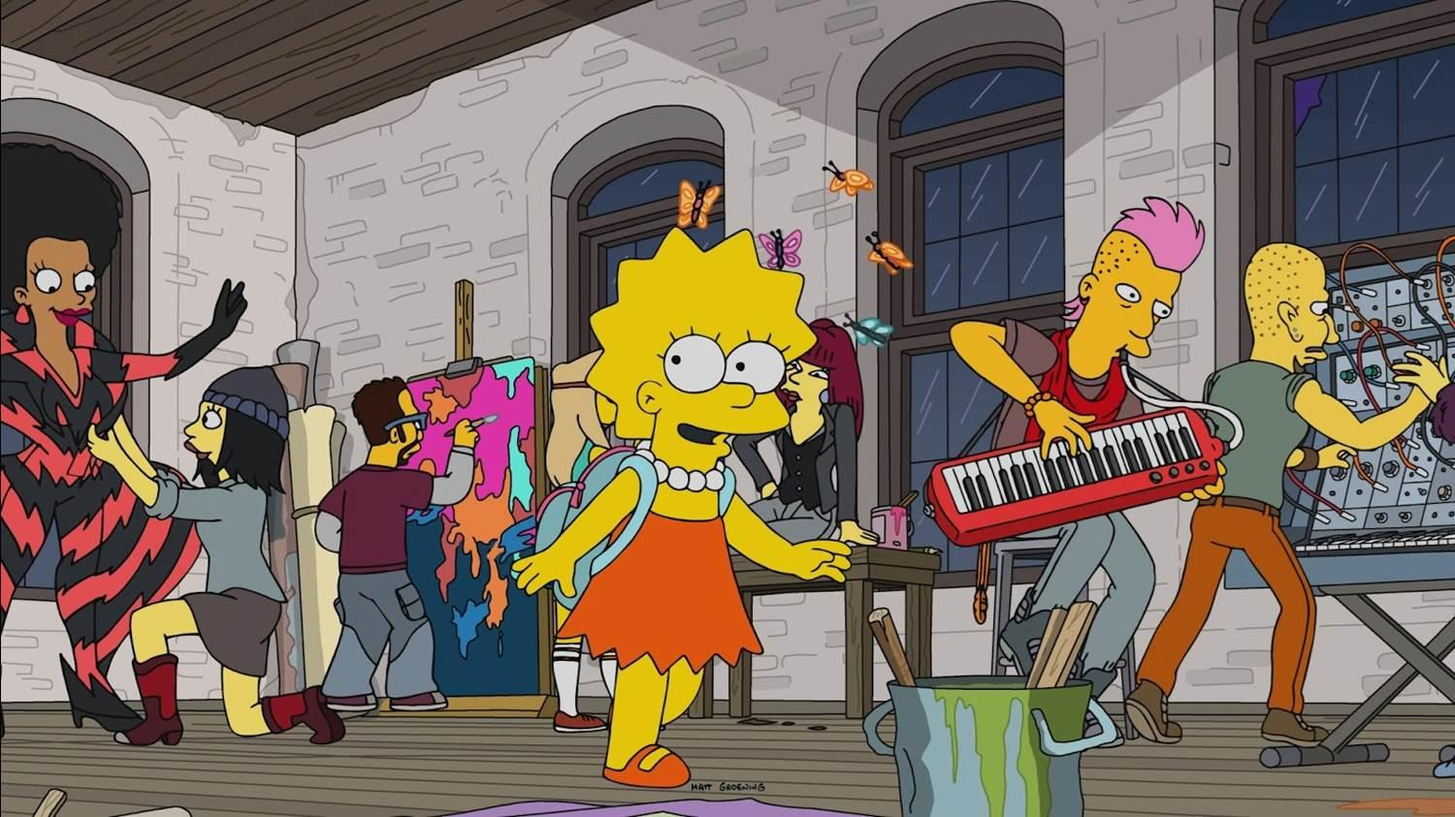Lisa: (521, 202, 868, 799)
